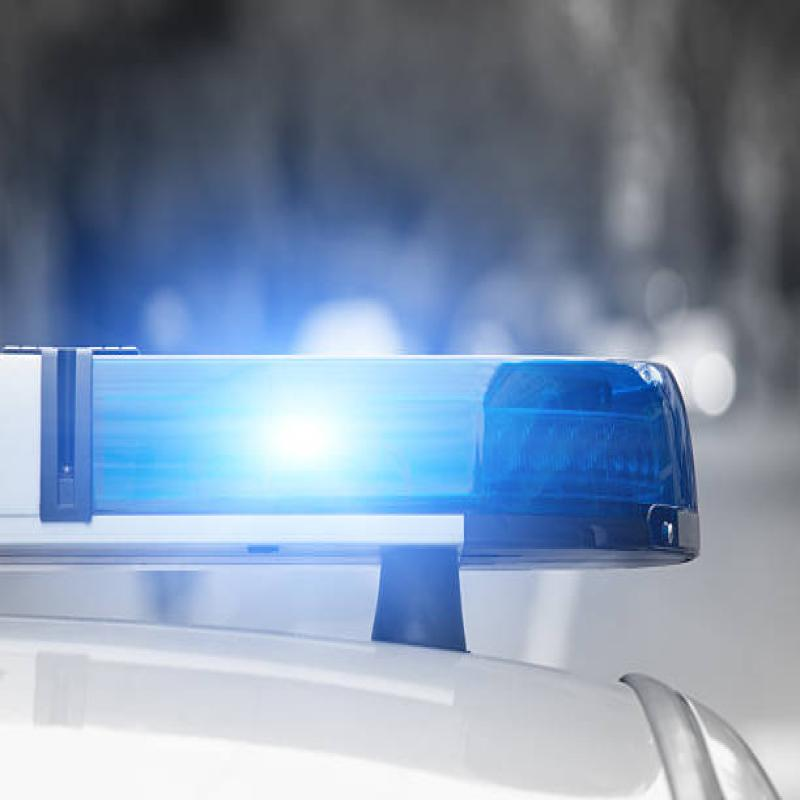AmbulanceSiren: (0, 207, 702, 652)
